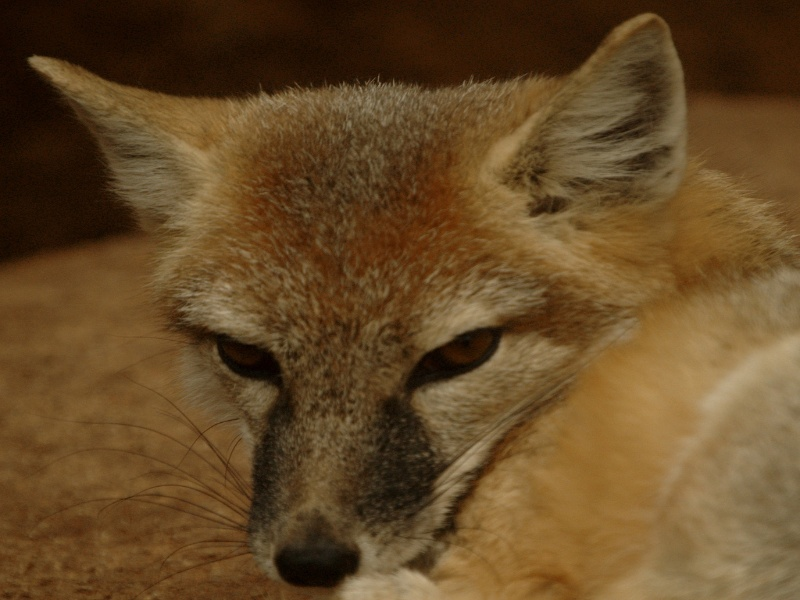fox: (43, 50, 798, 596)
